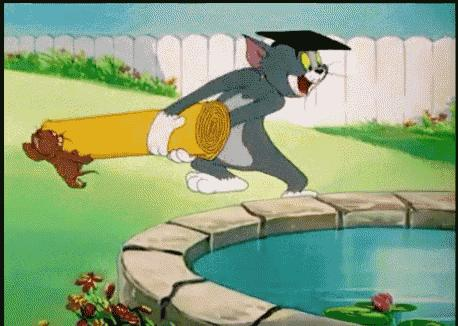jerry: (20, 127, 101, 191)
